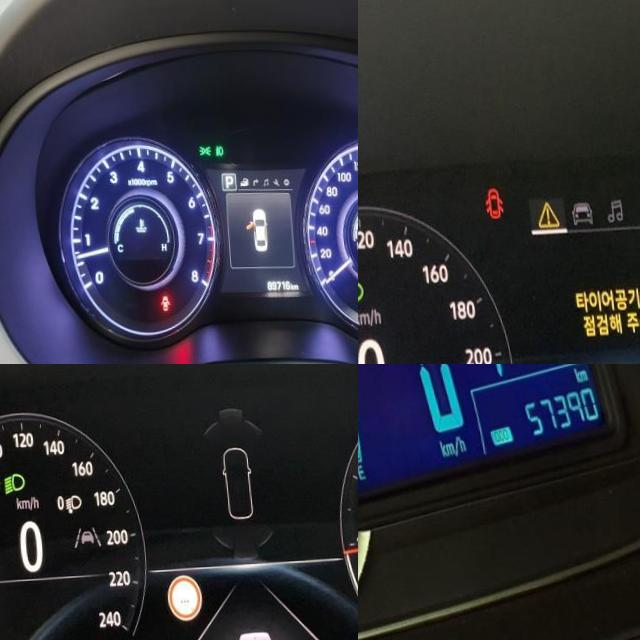Central Warning lamp: (531, 201, 556, 230)
Doors: (479, 188, 500, 220), (153, 295, 164, 313)
FrontFogLight: (209, 144, 219, 159)
Low beam: (0, 471, 21, 496)
SideLamp: (193, 145, 207, 159)
